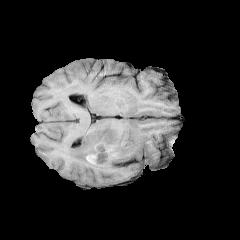glioma: (56, 126, 145, 169)
